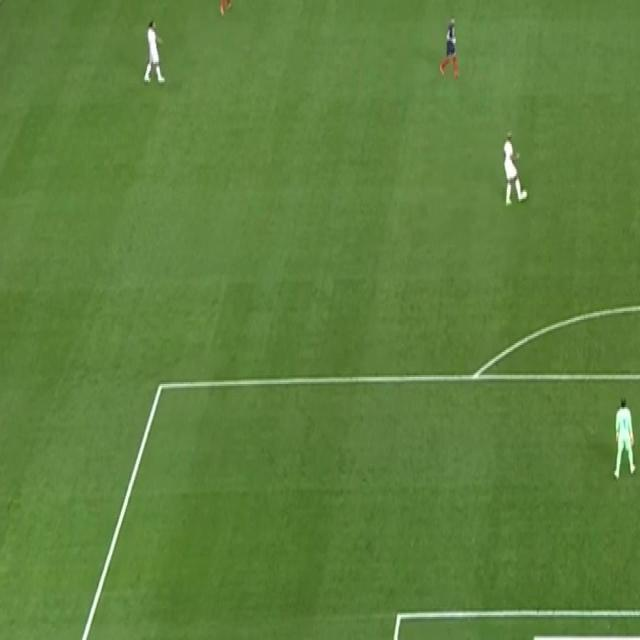ball: (519, 186, 529, 202)
player-white: (613, 395, 637, 480), (142, 18, 166, 86), (502, 130, 522, 207), (438, 16, 460, 83), (217, 0, 234, 18)
